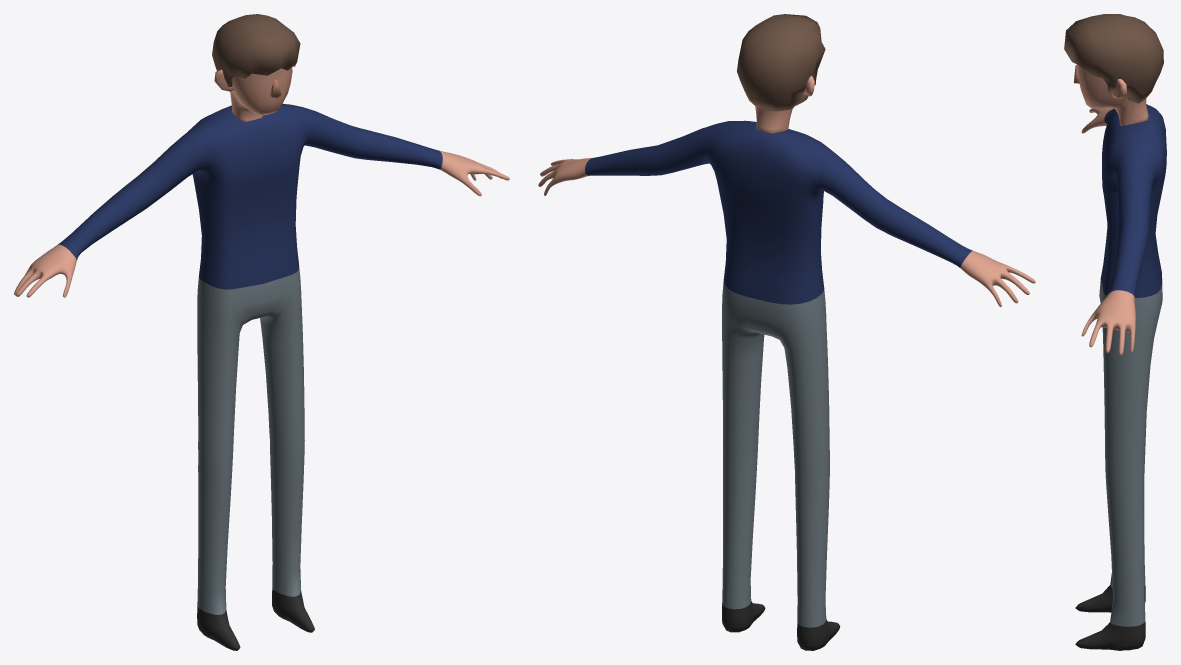
Rendered from MaleNPC3.fbx.
The picture shows the model from 3 angles, left to right: view 1: azimuth 30°, elevation 25°; view 2: azimuth 150°, elevation 25°; view 3: azimuth 270°, elevation 25°; orthographic projection.
Visible parts, largest first — view 1: CHARLES.001; view 2: CHARLES.001; view 3: CHARLES.001.
Part boxes in pixels (box(x1,y1,x2,y2)): CHARLES.001: box(14, 14, 509, 650); CHARLES.001: box(538, 14, 1035, 650); CHARLES.001: box(1064, 14, 1166, 650).
Bounding box in the file's own units: 155 × 185 × 28.22.
